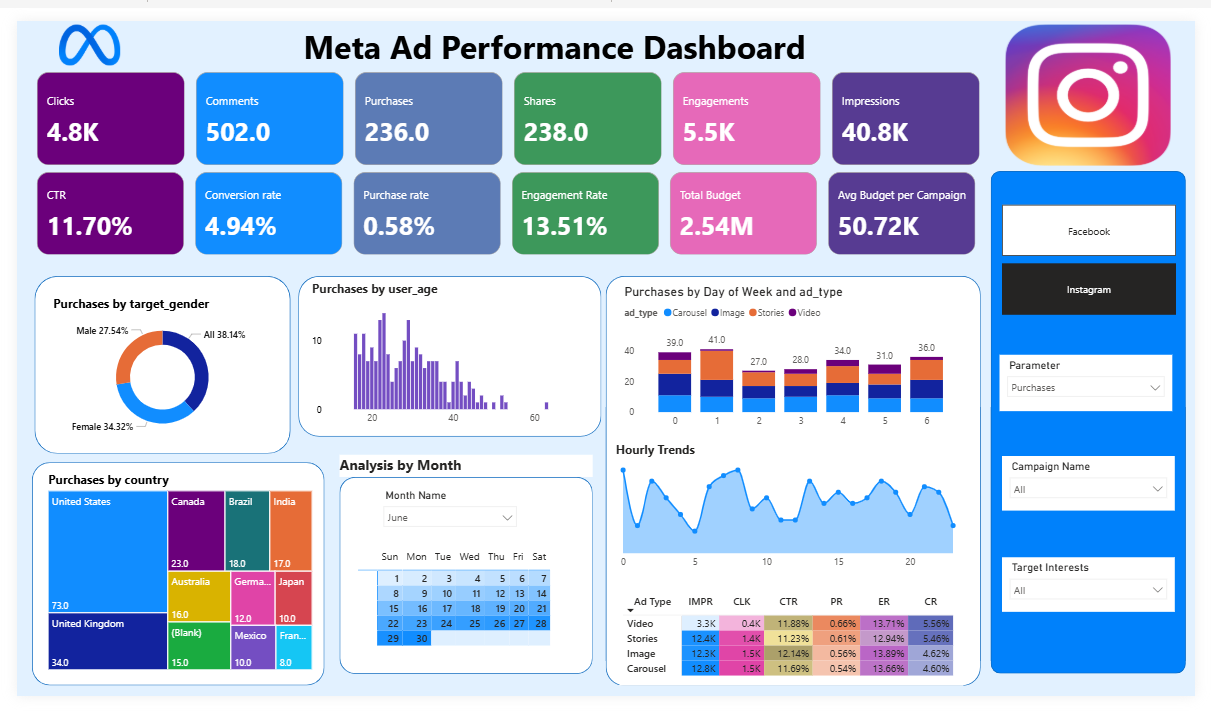

The dashboard page shown, as its layout file describes it:
{"tool":"powerbi","page":{"name":"Instagram","canvas":[1570,900],"ordinal":1},"visuals":[{"type":"textbox","box":[146,0,1140,80],"z":0},{"type":"image","box":[0,0,194,64],"z":1000},{"type":"shape","box":[1297.5,200,260,670],"z":2000},{"type":"cardVisual","fields":{"Data":["ad_events csv.Clicks","ad_events csv.Comments","ad_events csv.Purchases","ad_events csv.Shares","ad_events csv.Engagements","ad_events csv.Impressions"]},"box":[22,64,1270,134],"z":3000},{"type":"cardVisual","fields":{"Data":["ad_events csv.CTR","ad_events csv.Conversion rate","ad_events csv.Purchase rate","ad_events csv.Engagement Rate","ad_events csv.Total Budget","ad_events csv.Avg Budget per Campaign"]},"box":[21.7,196.7,1265,120],"z":4000},{"type":"slicer","fields":{"Values":["Parameter.Parameter"]},"box":[1310,445,230,75],"z":5000},{"type":"slicer","fields":{"Values":["campaigns csv.name"]},"box":[1312.5,580,230,72.5],"z":6000},{"type":"slicer","fields":{"Values":["ads csv.target_interests"]},"box":[1312.5,715,230,72.5],"z":7000},{"type":"shape","box":[22.9,340,341.4,237.1],"z":8000},{"type":"pageNavigator","box":[1312.5,245,232.5,147.5],"z":9000},{"type":"donutChart","fields":{"Y":["ad_events csv.Purchases"],"Category":["ads csv.target_gender"]},"box":[42.9,364.3,301.4,195.7],"z":10000},{"type":"shape","box":[374.3,340,404.3,214.3],"z":11000},{"type":"columnChart","fields":{"Y":["ad_events csv.Purchases"],"Category":["users csv.user_age"]},"box":[388.6,344.3,368.6,202.9],"z":12000},{"type":"shape","box":[20,587.5,390,297.5],"z":13000},{"type":"treemap","fields":{"Values":["ad_events csv.Purchases"],"Group":["users csv.country"]},"box":[36,600,362,270],"z":14000},{"type":"shape","title":"Analysis by Month","box":[430,577.5,337.5,292.5],"z":15000},{"type":"pivotTable","fields":{"Columns":["Calendar_Table.Day Name"],"Rows":["Calendar_Table.Week of Year"],"Values":["Sum(Calendar_Table.Day)"]},"box":[450,698,296,154],"z":16000},{"type":"slicer","fields":{"Values":["Calendar_Table.Month Name"]},"box":[478,618,198,62],"z":17000},{"type":"shape","box":[785,340,500,546.7],"z":18000},{"type":"areaChart","title":"Hourly Trends","fields":{"Y":["ad_events csv.Purchases"],"Category":["ad_events csv.Hour"]},"box":[793.3,560,470,180],"z":19000},{"type":"pivotTable","fields":{"Values":["ad_events csv.Impressions","ad_events csv.Clicks","ad_events csv.CTR","ad_events csv.Purchase rate","ad_events csv.Engagement Rate","ad_events csv.Conversion rate"],"Rows":["ads csv.ad_type"]},"box":[803.3,758.3,458.3,128.3],"z":20000},{"type":"columnChart","fields":{"Y":["ad_events csv.Purchases"],"Series":["ads csv.ad_type"],"Category":["Calendar_Table.Day of Week"]},"box":[805,350,458.3,201.7],"z":21000},{"type":"image","box":[1312.5,0,230,197.5],"z":22000}]}

Visuals, with their boxes in screenshot pixels (x1, y1, x2, y2), scaled from the page's 1570x900 canvas onto the 1211x712 screenshot:
textbox: detection(113, 0, 992, 63)
image: detection(0, 0, 150, 51)
shape: detection(1001, 158, 1201, 688)
cardVisual - ad_events csv.Clicks x ad_events csv.Comments: detection(17, 51, 997, 157)
cardVisual - ad_events csv.CTR x ad_events csv.Conversion rate: detection(17, 156, 992, 251)
slicer - Parameter.Parameter: detection(1010, 352, 1188, 411)
slicer - campaigns csv.name: detection(1012, 459, 1190, 516)
slicer - ads csv.target_interests: detection(1012, 566, 1190, 623)
shape: detection(18, 269, 281, 457)
pageNavigator: detection(1012, 194, 1192, 311)
donutChart - ad_events csv.Purchases x ads csv.target_gender: detection(33, 288, 266, 443)
shape: detection(289, 269, 601, 439)
columnChart - ad_events csv.Purchases x users csv.user_age: detection(300, 272, 584, 433)
shape: detection(15, 465, 316, 700)
treemap - ad_events csv.Purchases x users csv.country: detection(28, 475, 307, 688)
"Analysis by Month" shape: detection(332, 457, 592, 688)
pivotTable - Calendar_Table.Day Name x Calendar_Table.Week of Year: detection(347, 552, 575, 674)
slicer - Calendar_Table.Month Name: detection(369, 489, 521, 538)
shape: detection(606, 269, 991, 701)
"Hourly Trends" areaChart: detection(612, 443, 974, 585)
pivotTable - ad_events csv.Impressions x ad_events csv.Clicks: detection(620, 600, 973, 701)
columnChart - ad_events csv.Purchases x ads csv.ad_type: detection(621, 277, 974, 436)
image: detection(1012, 0, 1190, 156)
